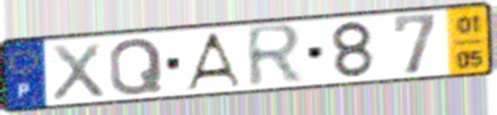7: (391, 11, 440, 77)
8: (328, 18, 378, 82)
A: (180, 30, 244, 92)
Q: (107, 35, 166, 98)
R: (243, 21, 307, 92)
X: (49, 39, 108, 103)
